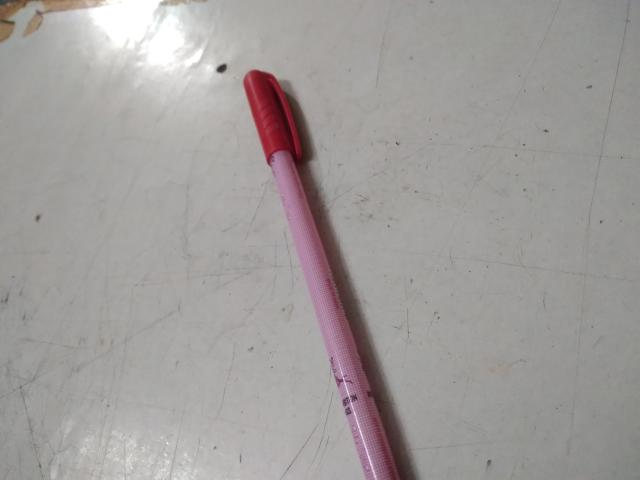PEN: (212, 67, 425, 480)
